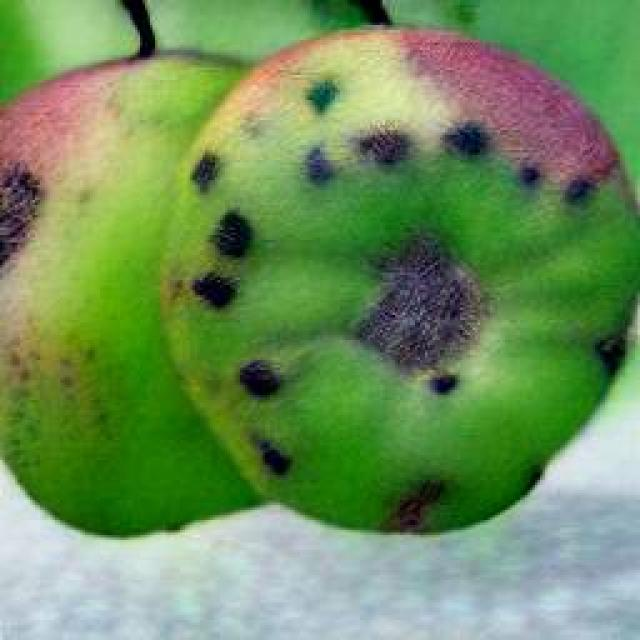defective: (0, 0, 638, 542)
